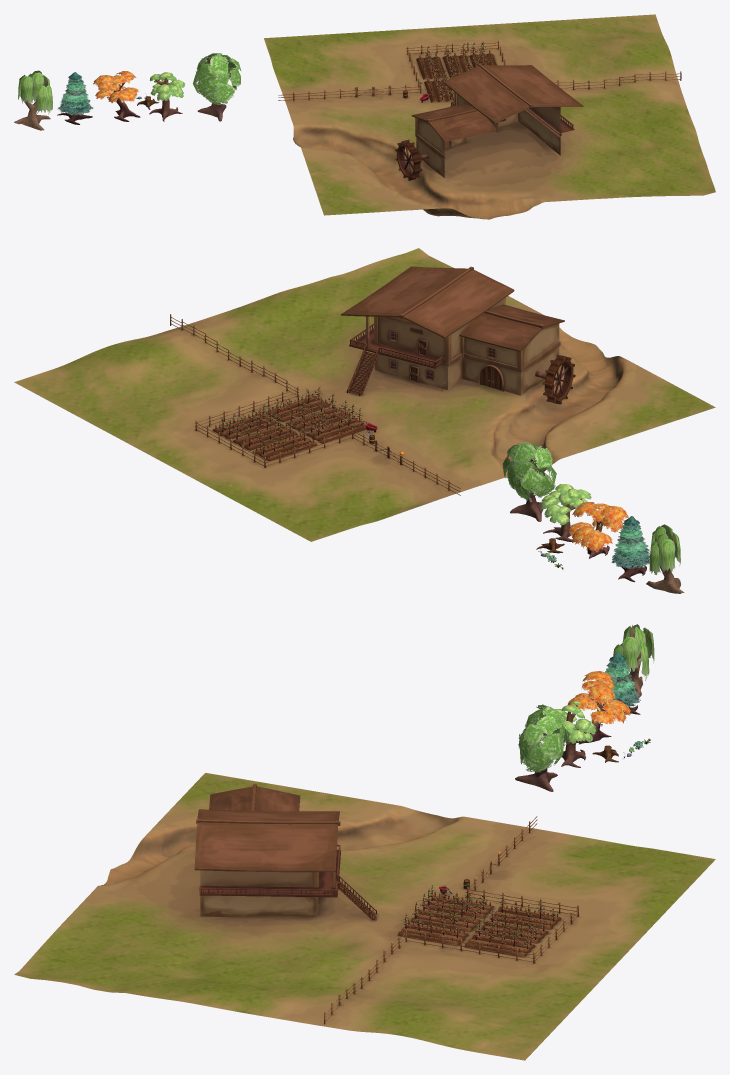
Rendered from SuarezM_PII_HarvestHero_Texturizado_Lobby 1.fbx.
3 renders of one model, top to bottom at view 1: azimuth 30°, elevation 25°; view 2: azimuth 150°, elevation 25°; view 3: azimuth 270°, elevation 25°, orthographic. The views are drawn at different scales.
Parts seen in each view (by area): view 1: Suelo, Casa, Arbol_4, Vallas, Harado, Arbol_5, Arbol_2, Arbol_3, Tomateras, Arbol_1, Casa.001; view 2: Suelo, Casa, Harado, Tomateras, Arbol_4, Vallas, Arbol_2, Arbol_5, Arbol_3, Arbol_1, Casa.001, Zanahorias; view 3: Suelo, Casa, Harado, Tomateras, Arbol_4, Vallas, Arbol_2, Arbol_5, Arbol_1, Arbol_3.
Boxes of the visible parts, bbox=[...] form: Suelo: bbox=[264, 14, 715, 219]; Casa: bbox=[410, 63, 583, 177]; Arbol_4: bbox=[193, 53, 241, 121]; Vallas: bbox=[278, 40, 681, 100]; Harado: bbox=[416, 53, 496, 102]; Arbol_5: bbox=[14, 70, 52, 130]; Arbol_2: bbox=[93, 71, 140, 121]; Arbol_3: bbox=[57, 72, 93, 124]; Tomateras: bbox=[422, 42, 489, 99]; Arbol_1: bbox=[149, 72, 184, 121]; Casa.001: bbox=[395, 139, 422, 180]; Suelo: bbox=[14, 248, 715, 541]; Casa: bbox=[341, 266, 564, 395]; Harado: bbox=[212, 396, 366, 460]; Tomateras: bbox=[219, 387, 362, 454]; Arbol_4: bbox=[502, 442, 556, 521]; Vallas: bbox=[170, 314, 460, 495]; Arbol_2: bbox=[569, 502, 628, 558]; Arbol_5: bbox=[646, 524, 684, 593]; Arbol_3: bbox=[611, 516, 649, 582]; Arbol_1: bbox=[540, 484, 591, 541]; Casa.001: bbox=[542, 355, 575, 404]; Zanahorias: bbox=[215, 393, 366, 457]; Suelo: bbox=[14, 773, 715, 1060]; Casa: bbox=[194, 783, 376, 920]; Harado: bbox=[397, 896, 561, 957]; Tomateras: bbox=[400, 885, 559, 948]; Arbol_4: bbox=[515, 704, 569, 791]; Vallas: bbox=[324, 816, 579, 1024]; Arbol_2: bbox=[567, 671, 631, 744]; Arbol_5: bbox=[613, 624, 654, 697]; Arbol_1: bbox=[554, 701, 596, 767]; Arbol_3: bbox=[602, 652, 640, 718].
Size of the model in its own units: 11687 by 1462 by 9175.
Materials: 21 (21 with a texture image).
